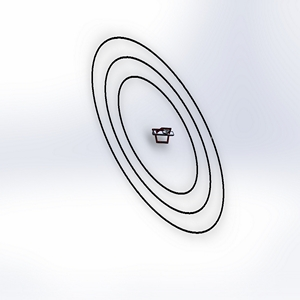circle: (78, 30, 236, 241)
submarine: (147, 117, 176, 153)
